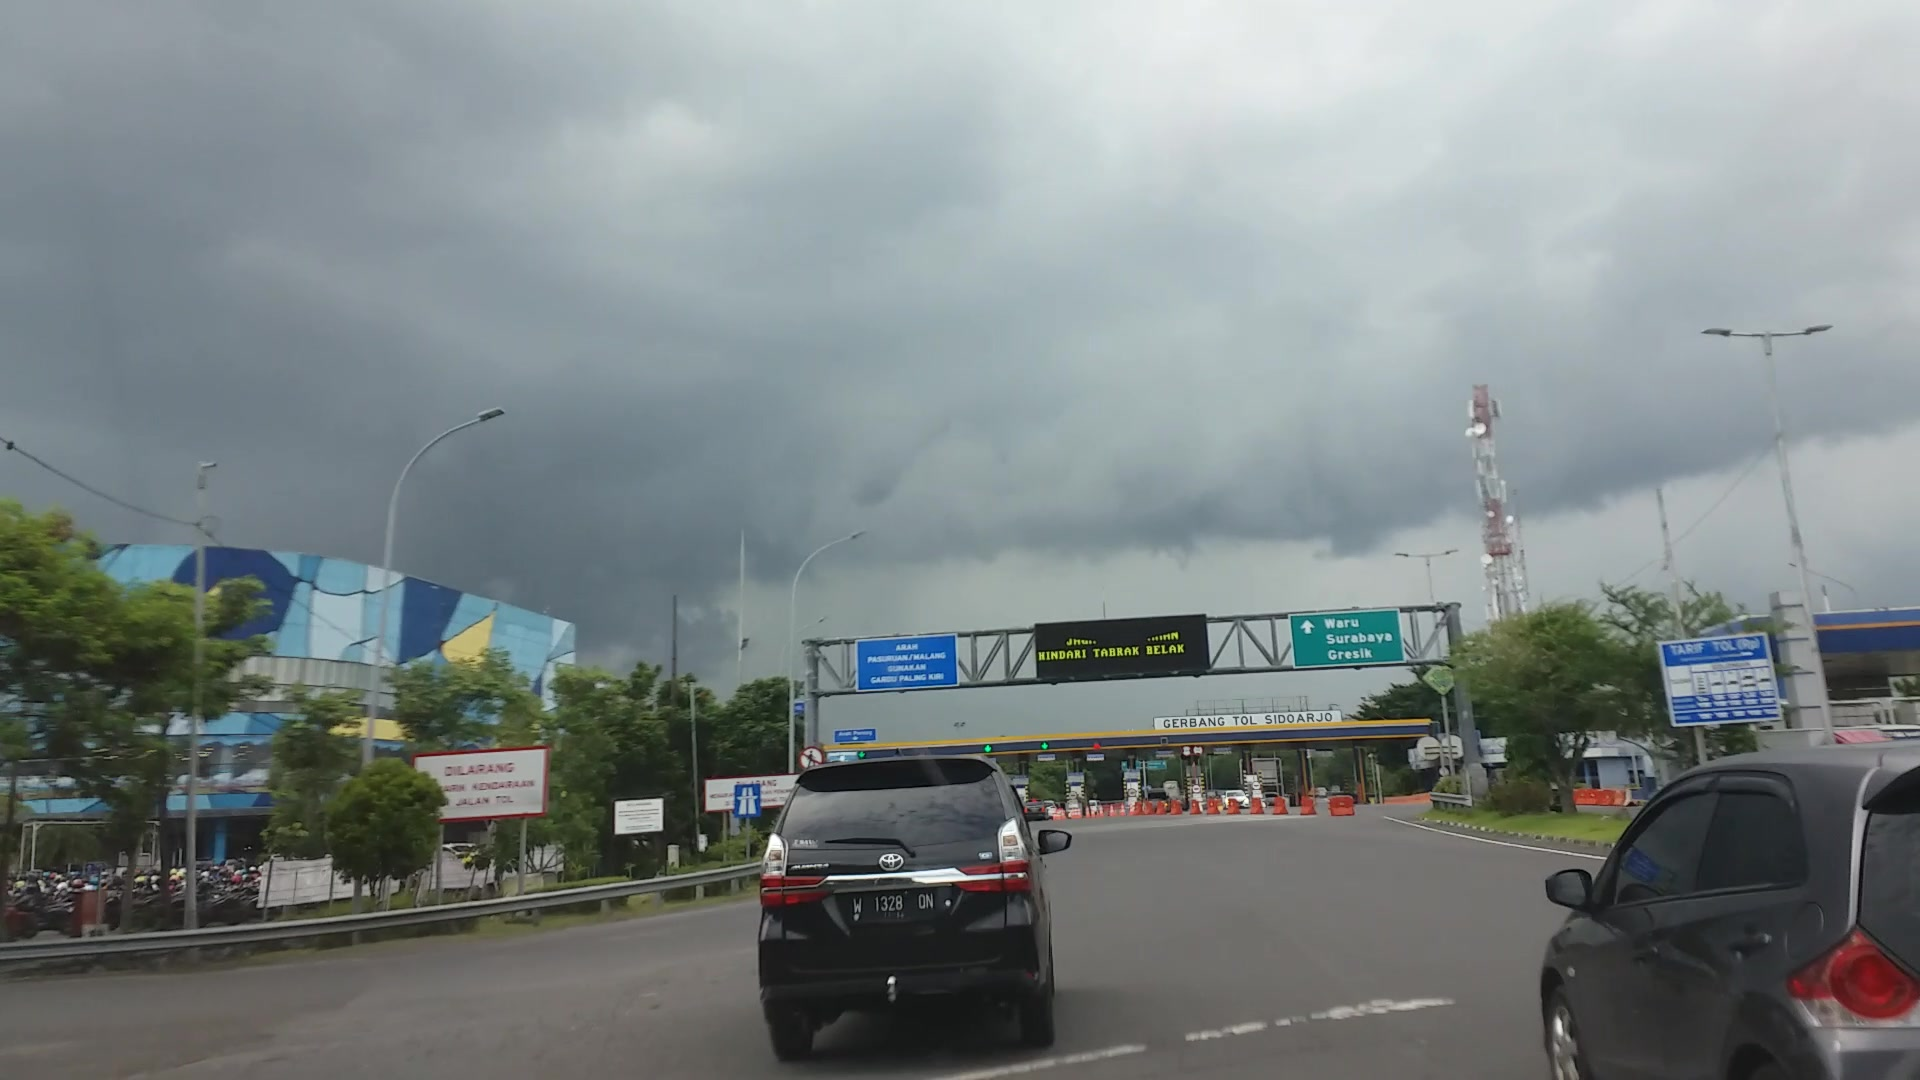plate_positive: (849, 890, 938, 924)
